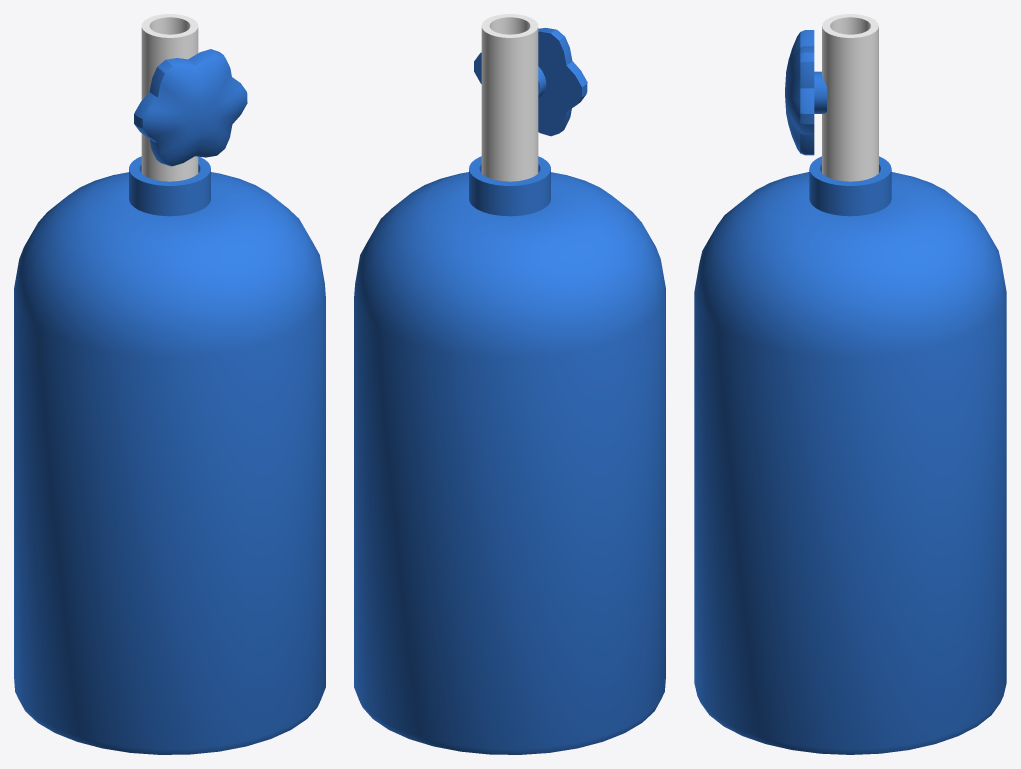
Rendered from nitro.fbx.
3 renders of one model, left to right at view 1: azimuth 30°, elevation 25°; view 2: azimuth 150°, elevation 25°; view 3: azimuth 270°, elevation 25°, orthographic.
Visible parts, largest first — view 1: Cylinder.004; view 2: Cylinder.004; view 3: Cylinder.004.
Part boxes in pixels (left/top/right/bottom): Cylinder.004: left=14, top=14, right=325, bottom=754; Cylinder.004: left=354, top=14, right=665, bottom=754; Cylinder.004: left=694, top=14, right=1006, bottom=754.
Bounding box in the file's own units: 140 × 330 × 140.
